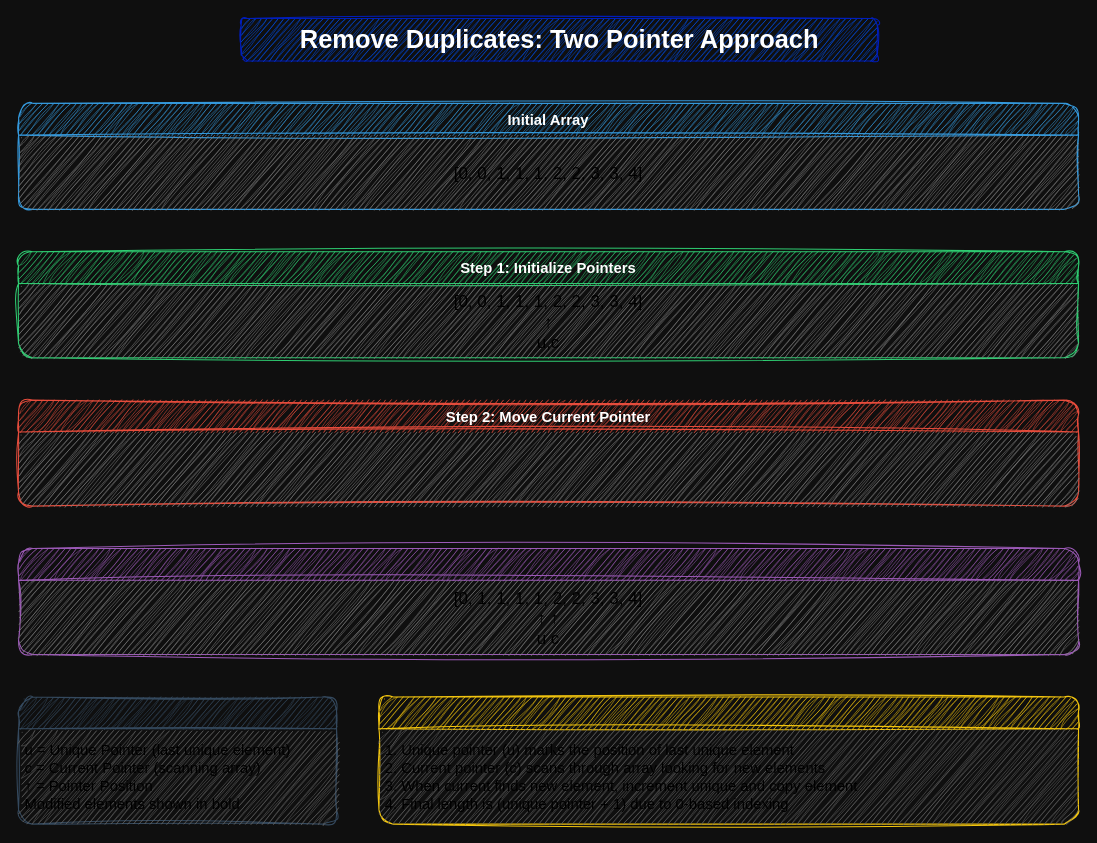
Some shapes in this 1097 by 843 pixel diagram are drawn without their labels. Here are the shapes that lost their labels. From the top down, the box of each, then its label:
(18, 431, 1078, 506): [0, 0, 1, 1, 1, 2, 2, 3, 3, 4] ↑ ↑ u c
(17, 547, 1079, 655): Step 3: Found New Element
(17, 696, 337, 824): Legend
(378, 696, 1079, 824): Key Points
